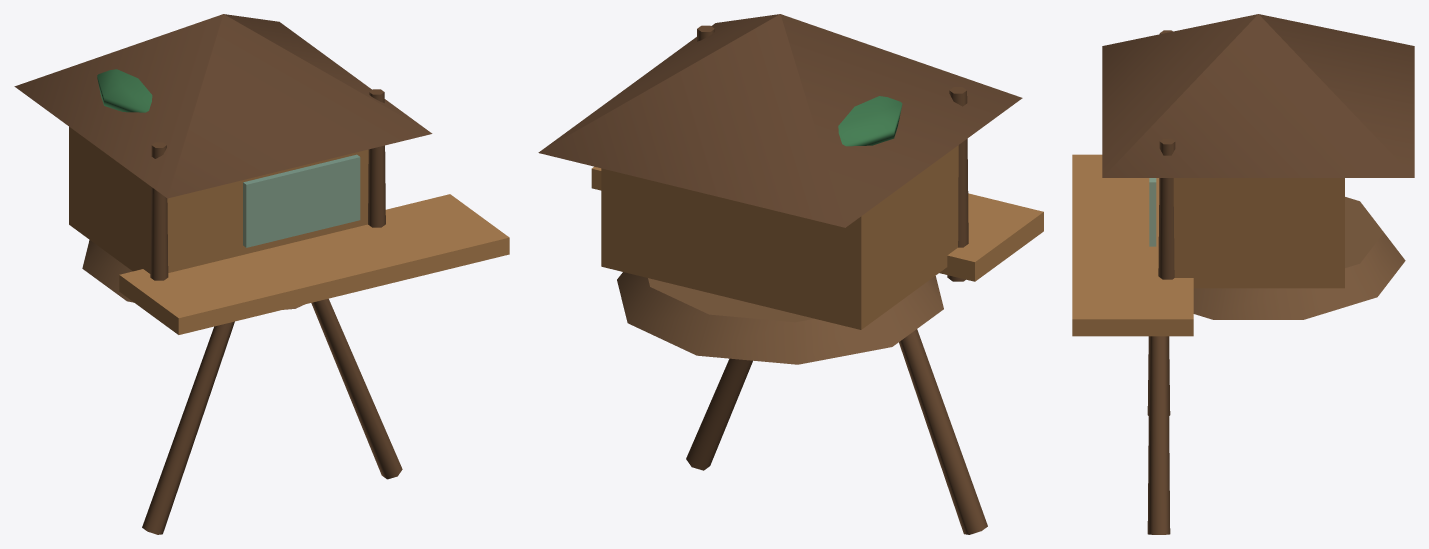
The model's file is cliff-manor.glb.
The picture shows the model from 3 angles, left to right: view 1: azimuth 30°, elevation 25°; view 2: azimuth 150°, elevation 25°; view 3: azimuth 270°, elevation 25°; orthographic projection. The views are drawn at different scales.
Visible parts, largest first — view 1: cliff-manor; view 2: cliff-manor; view 3: cliff-manor.
Boxes of the visible parts, box(x1,y1,x2,y2) form: cliff-manor: box(14, 14, 509, 534); cliff-manor: box(538, 14, 1043, 534); cliff-manor: box(1072, 14, 1414, 534).
Bounding box in the file's own units: 4.5 × 5.92 × 3.95.
